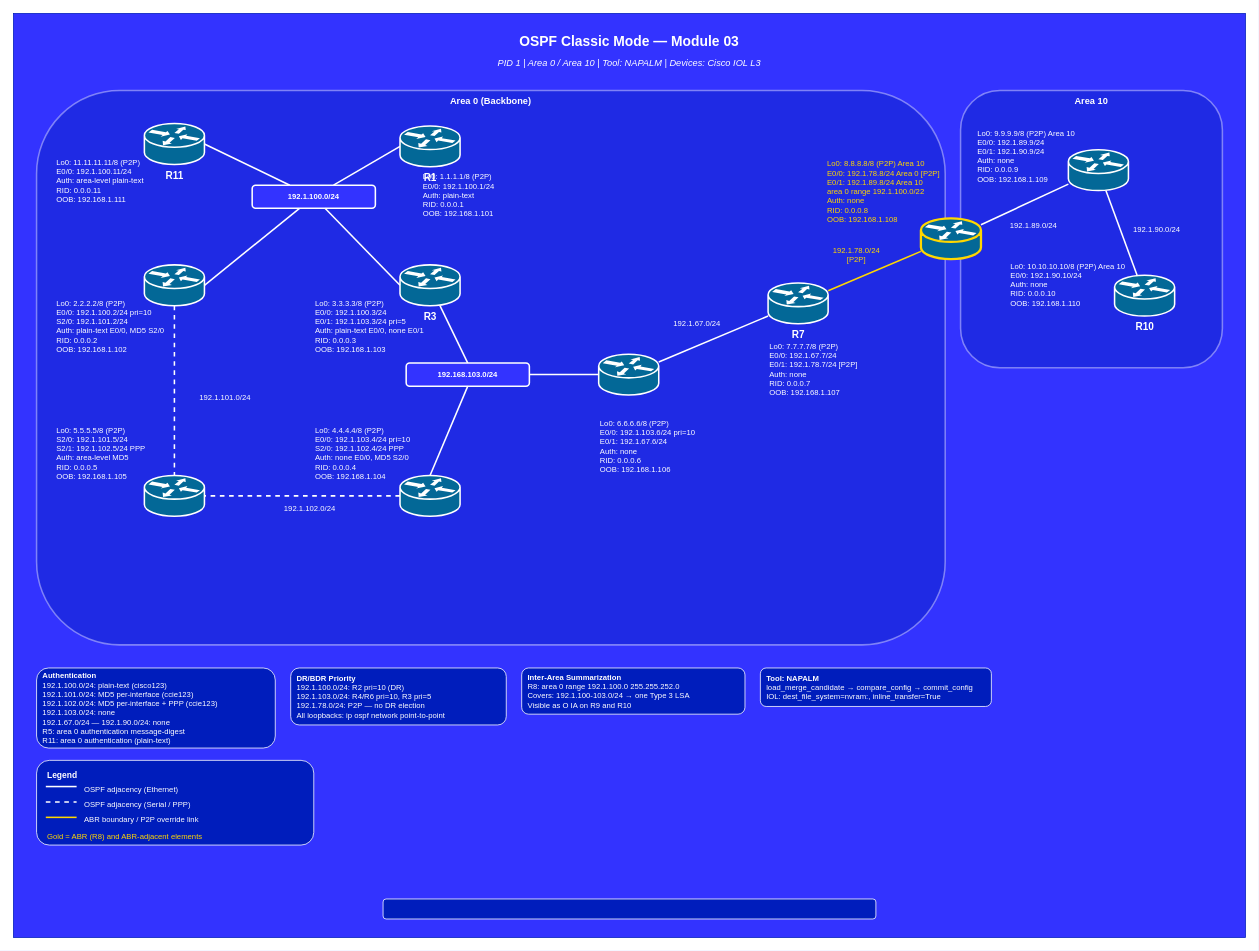
Image size: 1259x951. Some labels were removed from this diagram. Here are the shapes that lost their labels. From the top down, the centre of each, then its label:
At pixel 1098 170: "R9".
At pixel 950 238: "R8 (ABR)".
At pixel 174 285: "R2".
At pixel 628 374: "R6".
At pixel 174 495: "R5".
At pixel 429 495: "R4".
At pixel 629 908: "OOB Mgmt: 192.168.1.0/24 (Ethernet1/3 on all routers — excluded from OSPF)".
